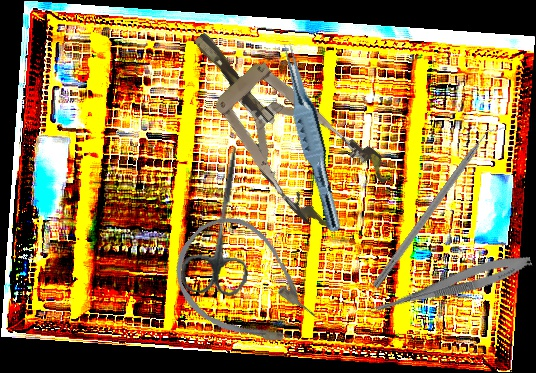Cannula: (156, 199, 333, 373)
Chopper: (371, 117, 508, 297)
Iris Scissors: (178, 141, 266, 299)
Micro Scissor: (364, 247, 535, 327)
Speculum: (162, 1, 397, 241)
Tissue Forceps: (271, 40, 353, 234)
